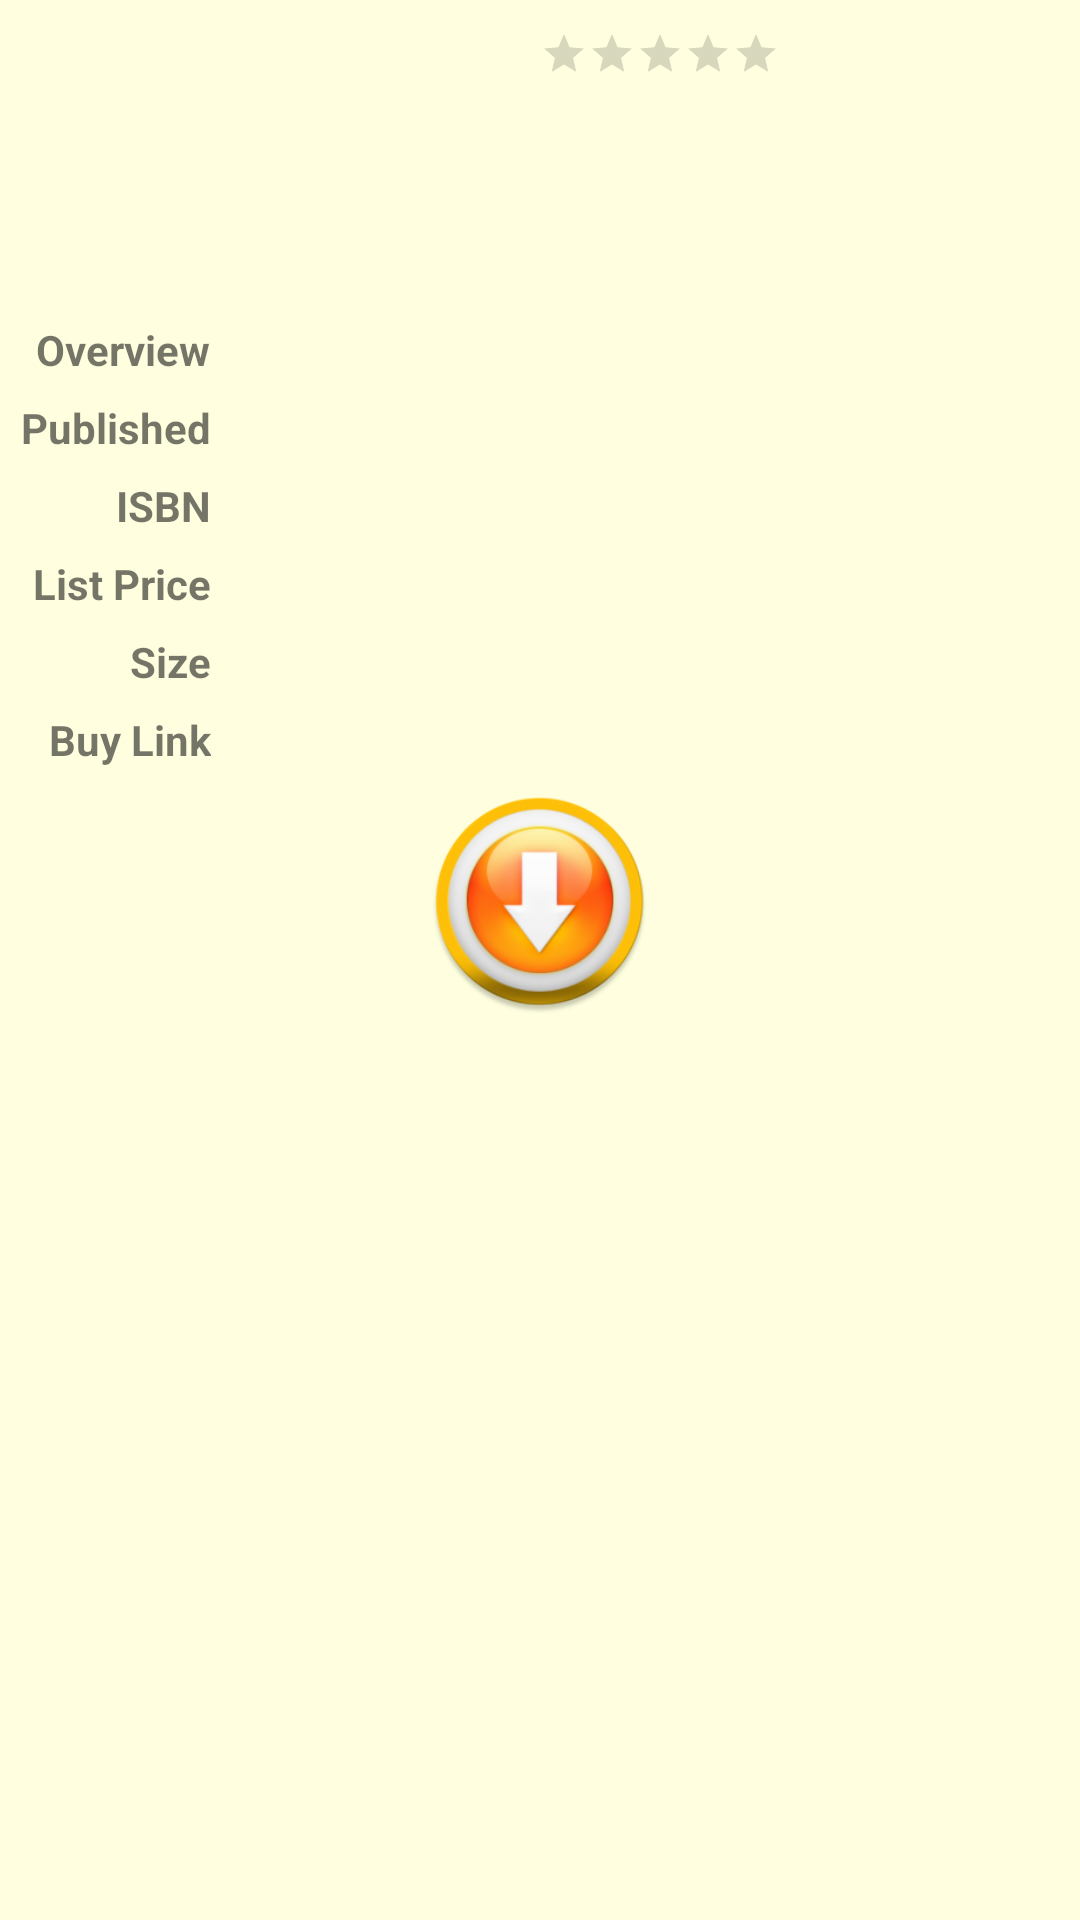

Screen size 1080x1920. Icon name, then its center in pixels as (x,y):
save: (539,903)
